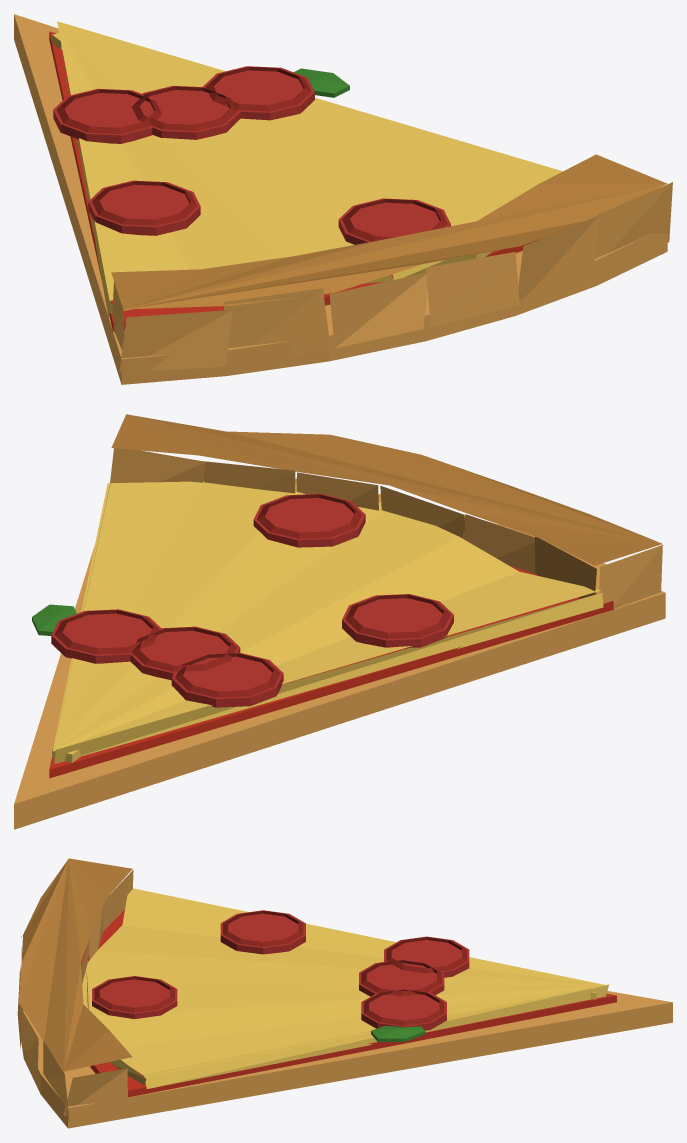
File: food_pizza_slice.glb
3 renders of one model, top to bottom at view 1: azimuth 30°, elevation 25°; view 2: azimuth 150°, elevation 25°; view 3: azimuth 270°, elevation 25°, orthographic. The views are drawn at different scales.
Visible parts, largest first — view 1: food_pizza_slice; view 2: food_pizza_slice; view 3: food_pizza_slice.
Boxes of the visible parts, bbox=[...] form: food_pizza_slice: bbox=[14, 14, 672, 384]; food_pizza_slice: bbox=[14, 414, 665, 829]; food_pizza_slice: bbox=[17, 858, 672, 1128].
Size of the model in its own units: 0.272 by 0.0355 by 0.3523.
